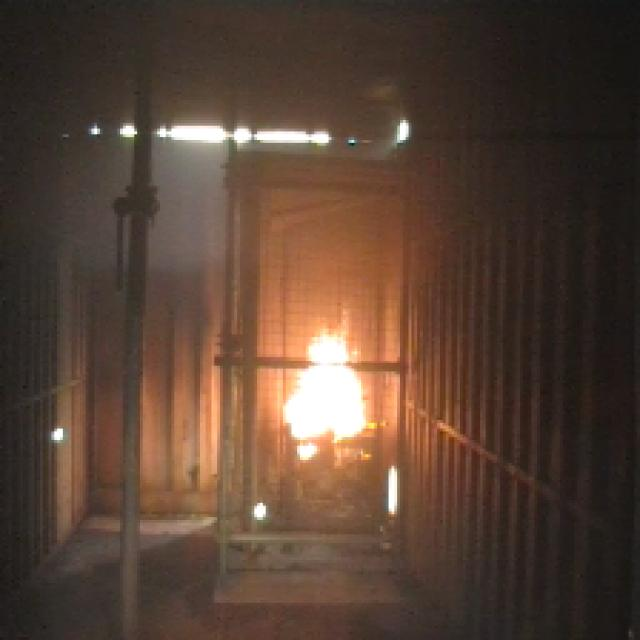fire: (278, 315, 375, 467)
